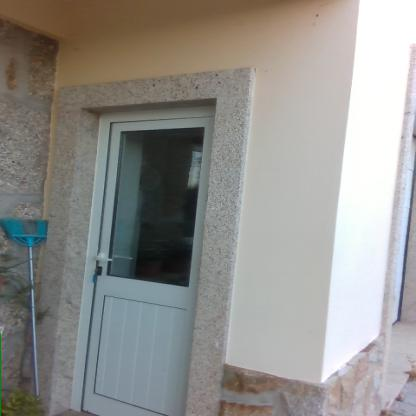closed: (66, 86, 230, 416)
